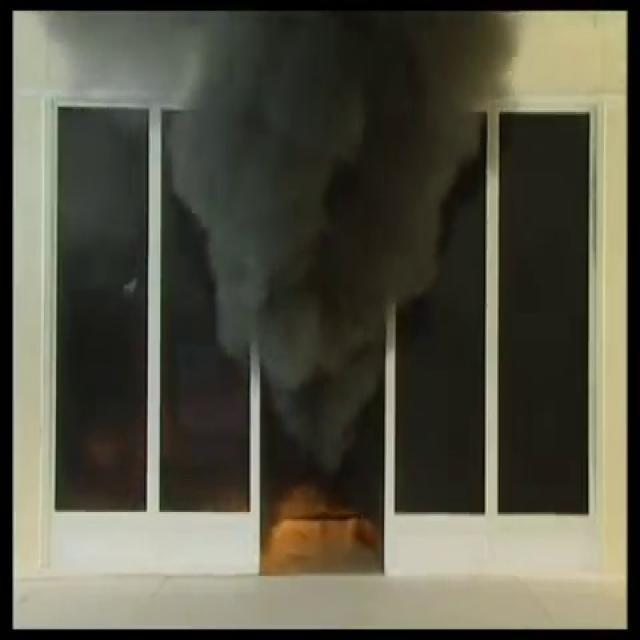Smoke: (184, 0, 472, 457)
